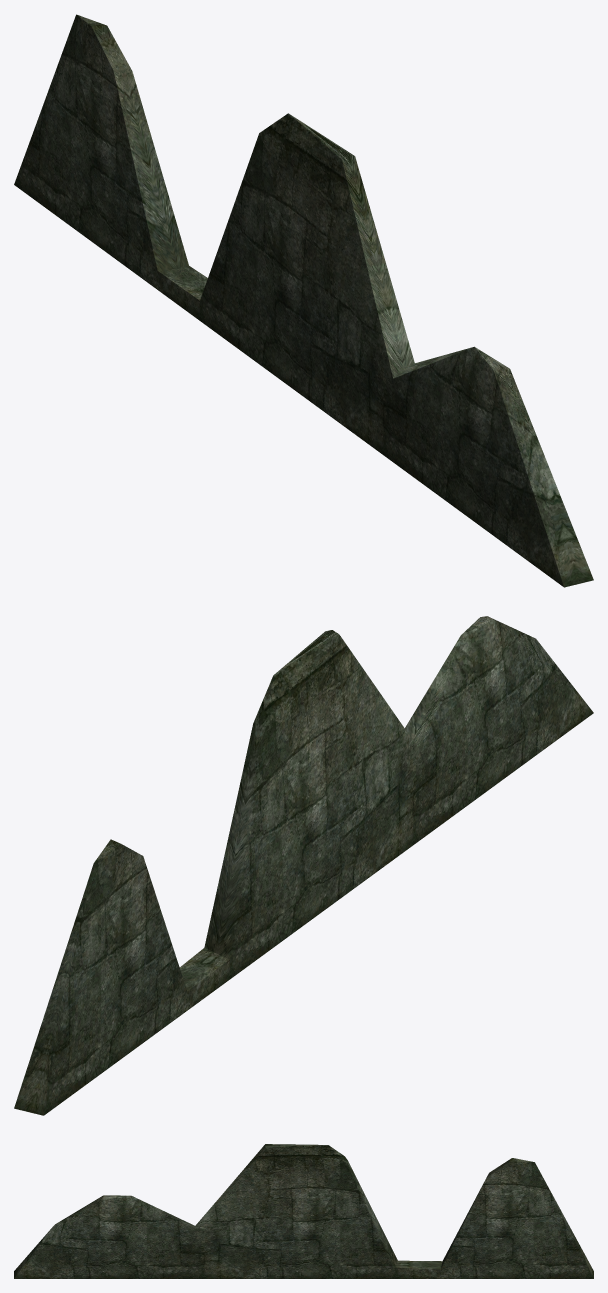
Rendered from thm_dant_jedi_wall_1_l3.fbx.
The picture shows the model from 3 angles, top to bottom: view 1: azimuth 30°, elevation 25°; view 2: azimuth 150°, elevation 25°; view 3: azimuth 270°, elevation 25°; orthographic projection. The views are drawn at different scales.
Parts seen in each view (by area): view 1: mesh_node; view 2: mesh_node; view 3: mesh_node.
Boxes of the visible parts, x1,y1,x2,y2 form: mesh_node: [14, 14, 593, 587]; mesh_node: [14, 616, 593, 1115]; mesh_node: [14, 1144, 593, 1278].
Size of the model in its own units: 0.5 by 4.05 by 16.
